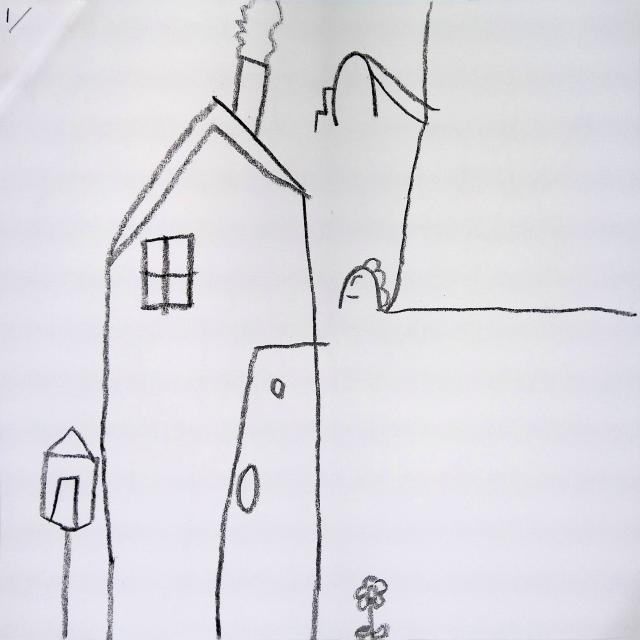chimney: (232, 55, 269, 136)
door: (215, 342, 320, 640)
house: (97, 55, 321, 640)
roof: (106, 95, 310, 269)
wall: (101, 126, 322, 640)
window: (141, 234, 196, 315)
